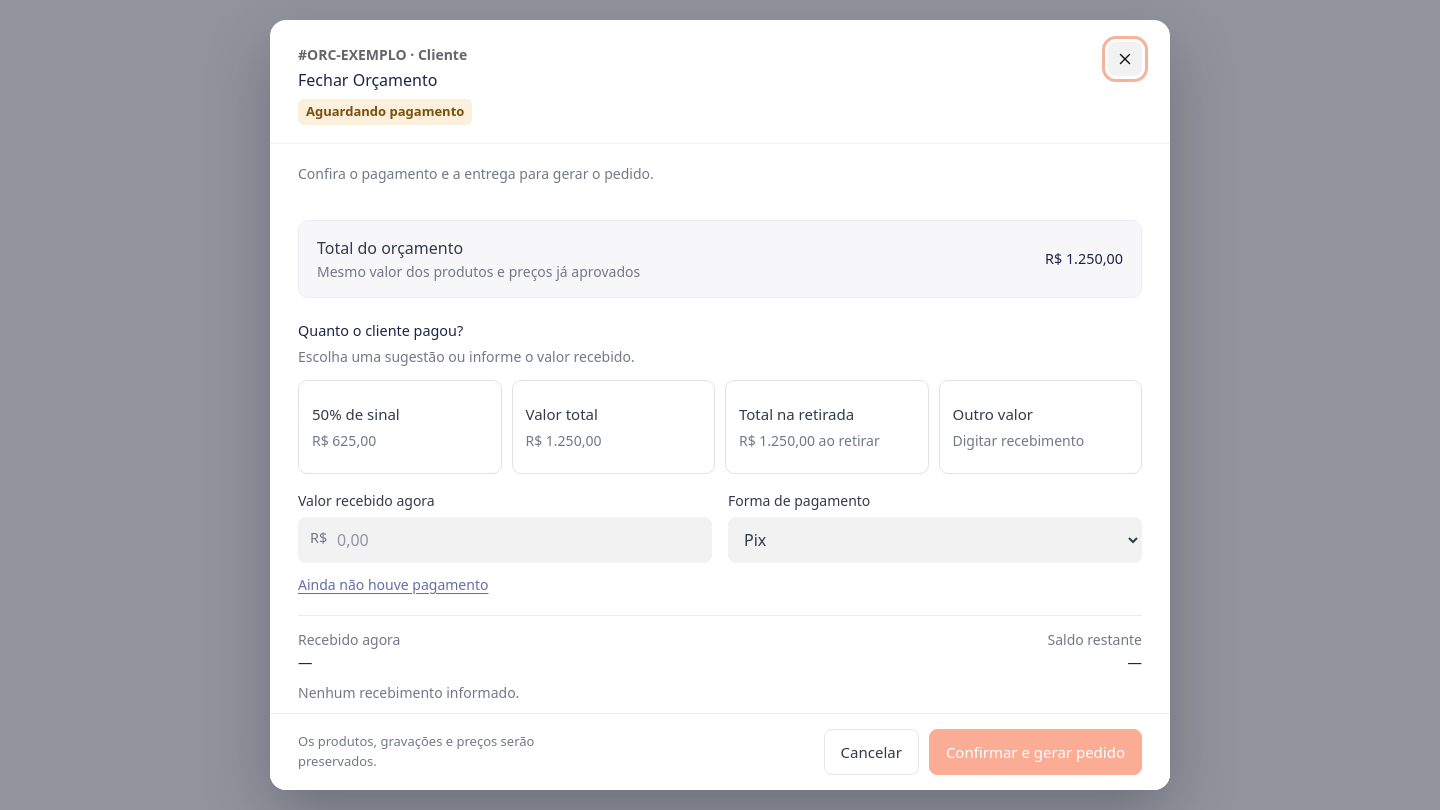
Test case: fechamento guiado aprovado › bloqueia valor maior que o total sem efetuar POST
In the field labelled "Valor recebido agora": (505, 540) [298,517,712,563], type "1500,00"
(page scrolled)
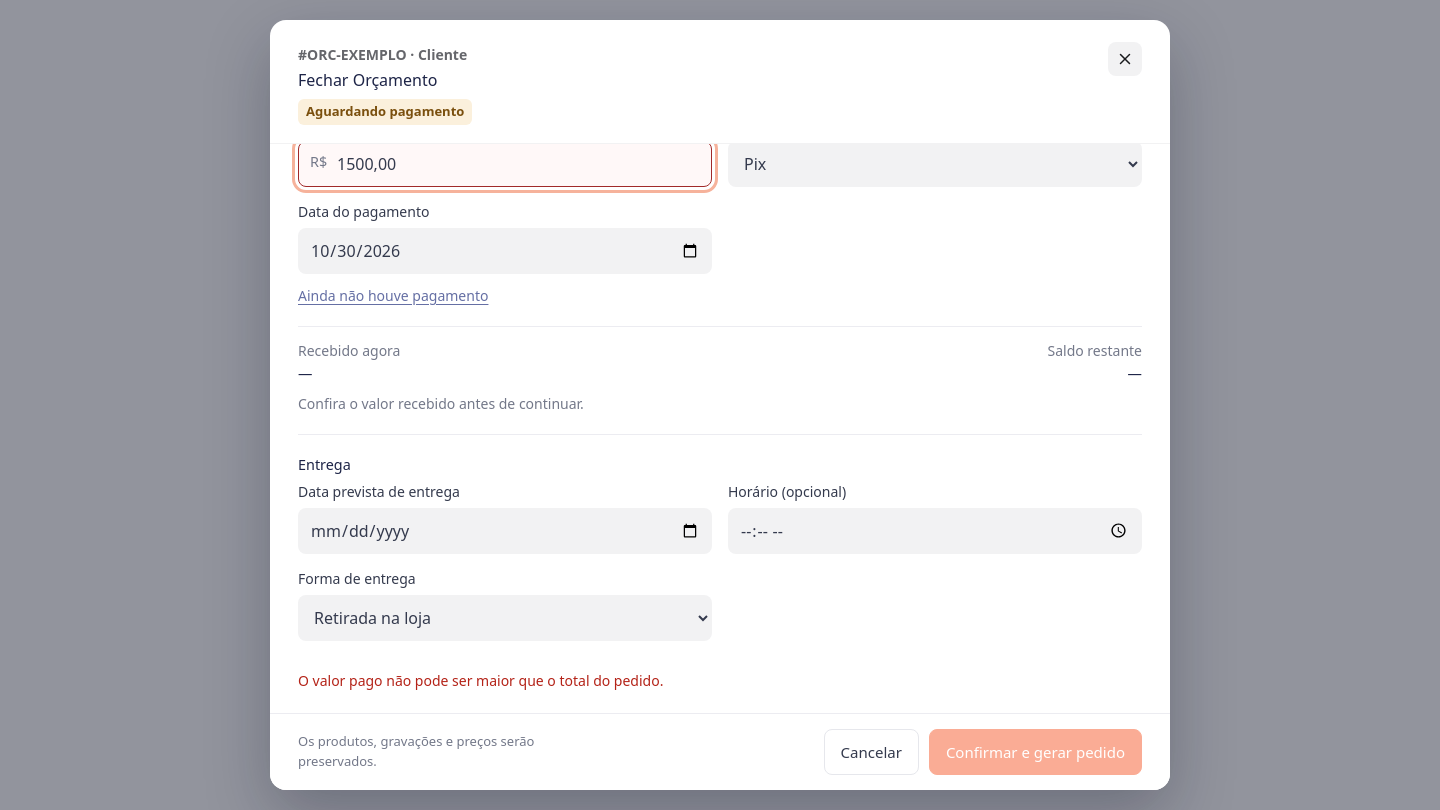
Check: the button "Confirmar e gerar pedido" is disabled, box [929,728,1142,775]
Check: the message "O valor pago não pode ser maior que o total do pedido." is shown, box [298,671,663,690]
